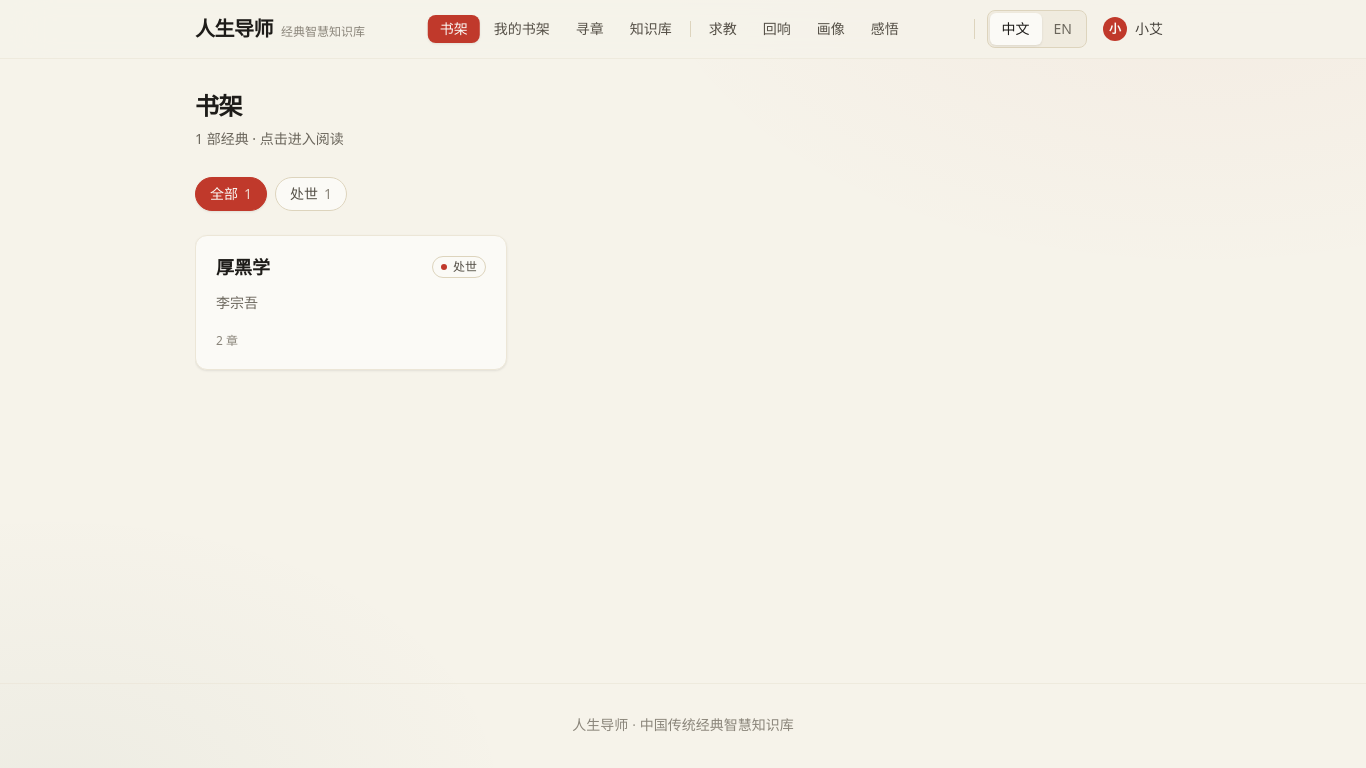
Scenario: 阅读流程 › 书架 → 书页 → 章节
Click the heading "厚黑学": (243, 268) [216,256,270,281]
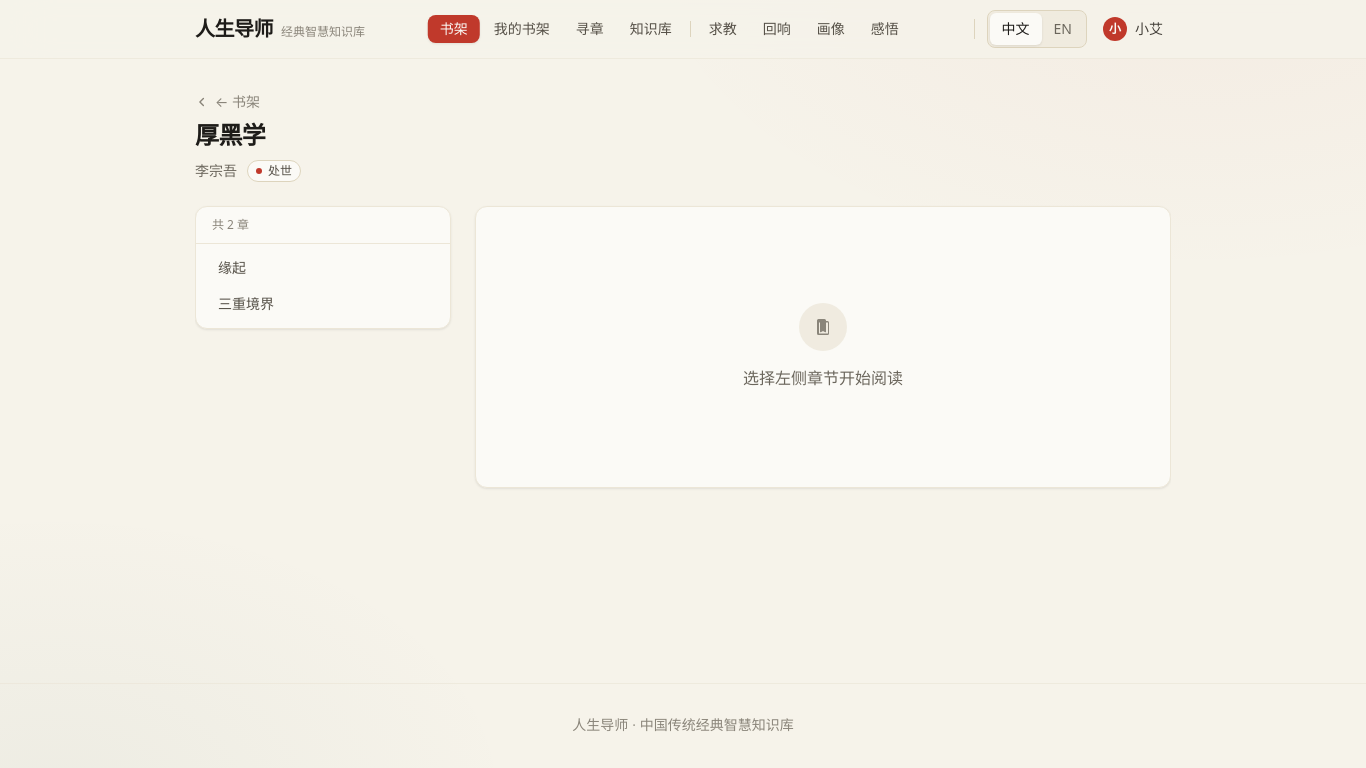
Click the button "缘起": (323, 268) [202,250,444,286]
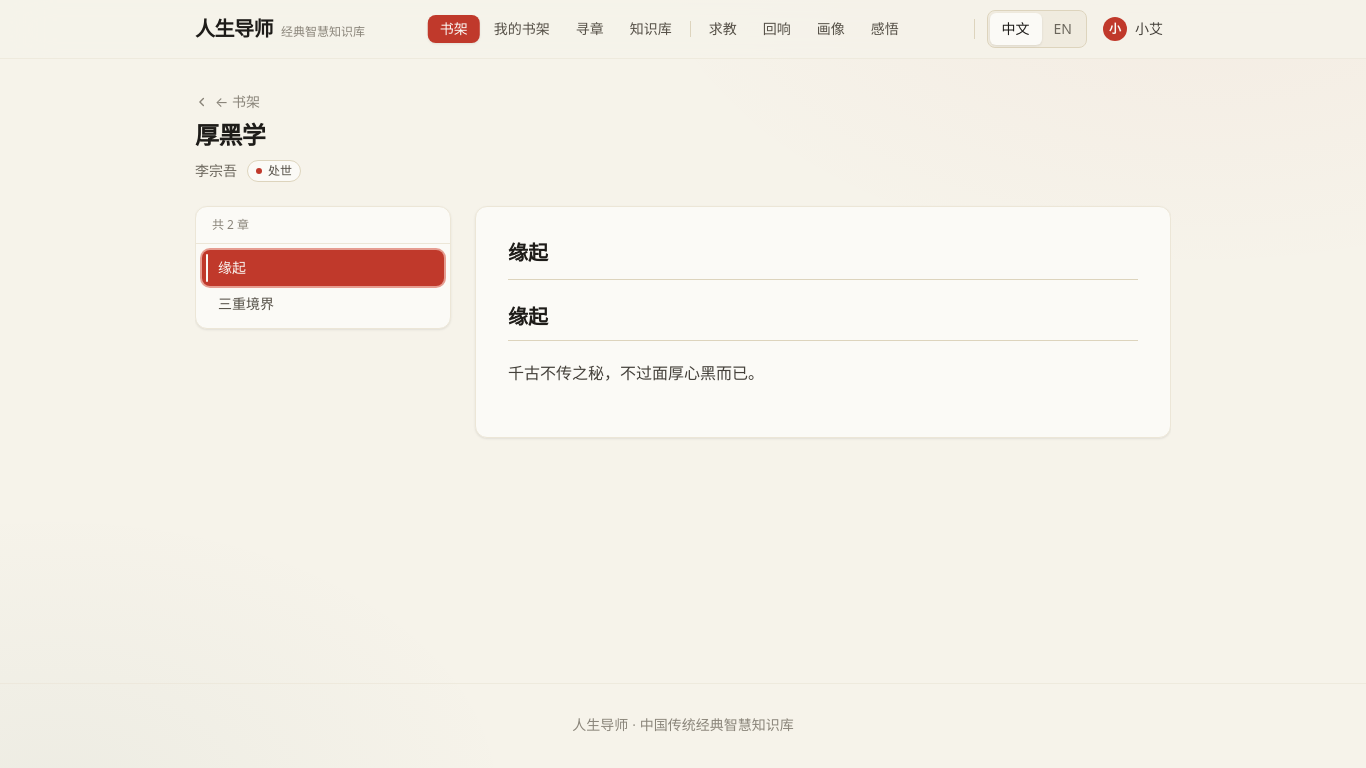
Now the text "千古不传之秘，不过面厚心黑而已。" is shown, box [508,362,764,384]
